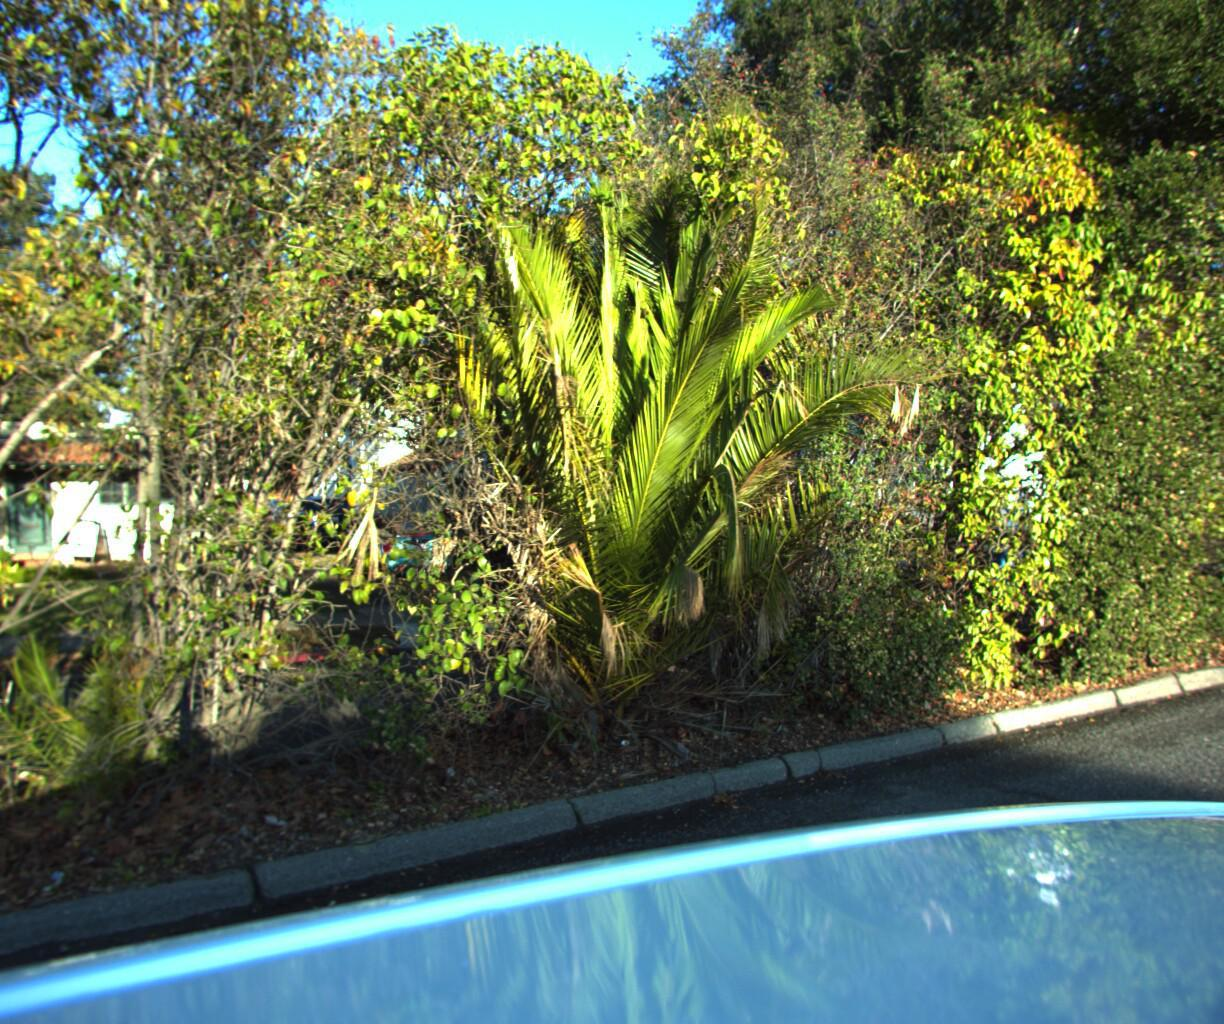car: (330, 509, 456, 585)
